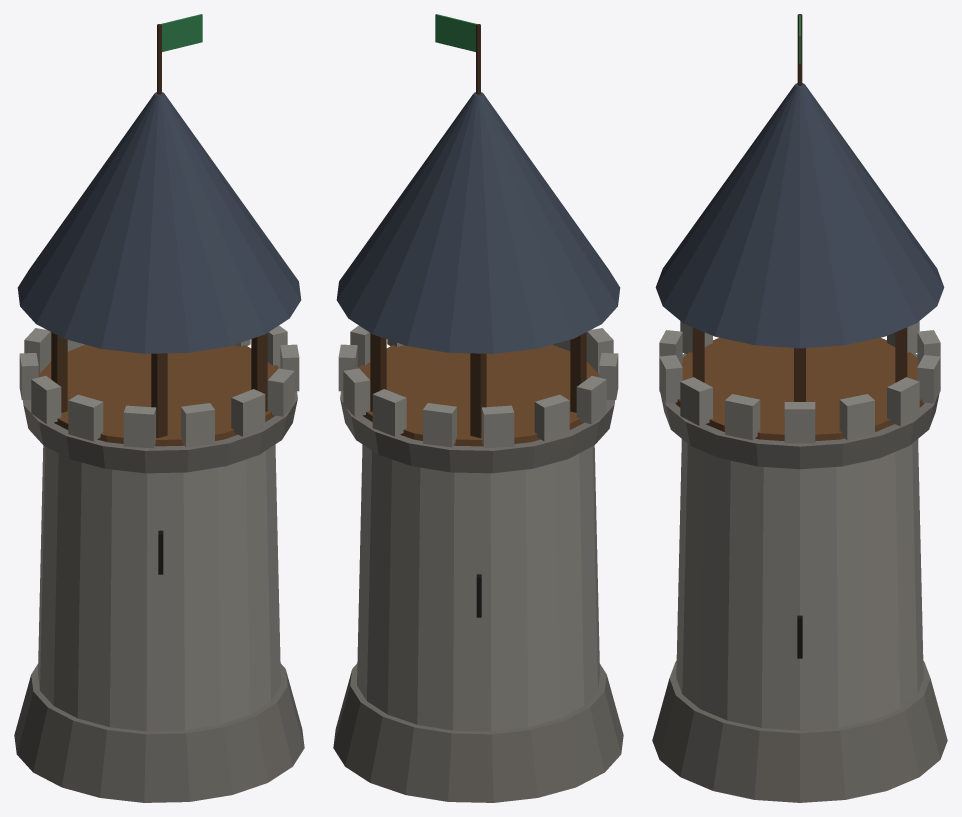
The model's file is tower.glb.
3 renders of one model, left to right at view 1: azimuth 30°, elevation 25°; view 2: azimuth 150°, elevation 25°; view 3: azimuth 270°, elevation 25°, orthographic.
Parts seen in each view (by area): view 1: Tower; view 2: Tower; view 3: Tower.
Part boxes in pixels (x1=…): Tower: x1=14, y1=14, x2=304, y2=802; Tower: x1=333, y1=14, x2=623, y2=802; Tower: x1=652, y1=14, x2=947, y2=802.
Size of the model in its own units: 8.6 by 23.3 by 8.6.
